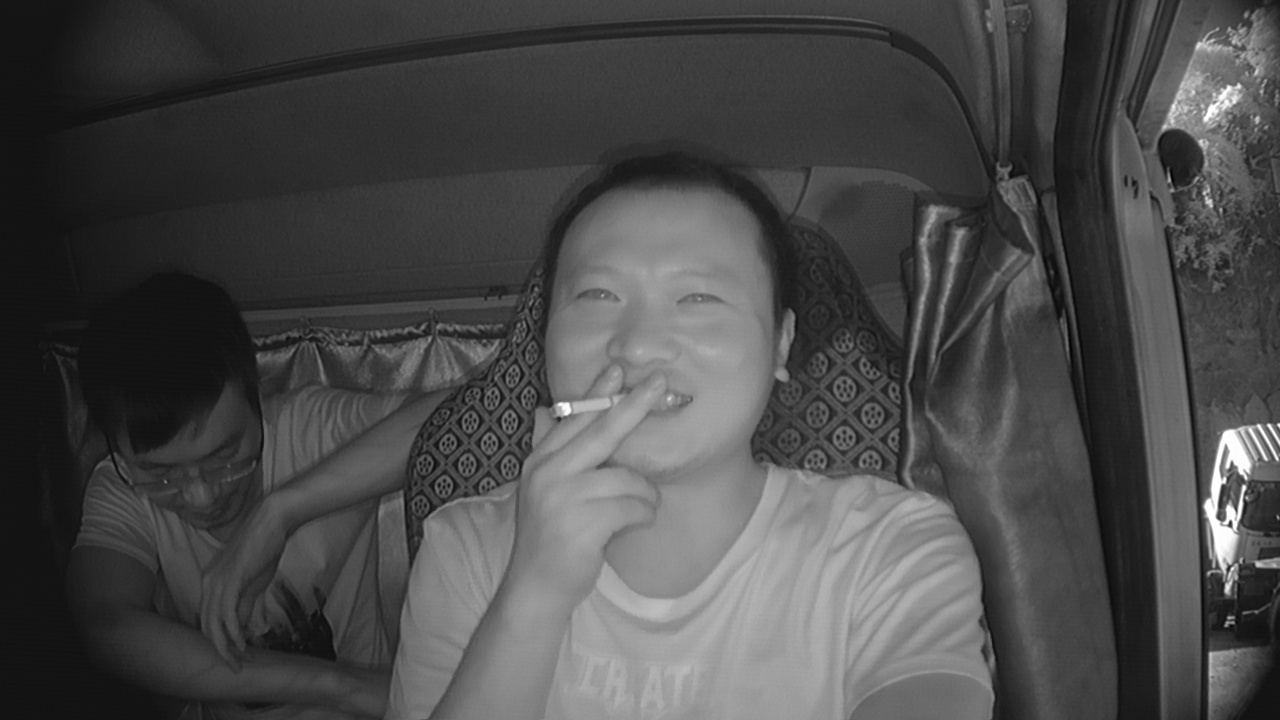hand: (528, 367, 667, 542)
